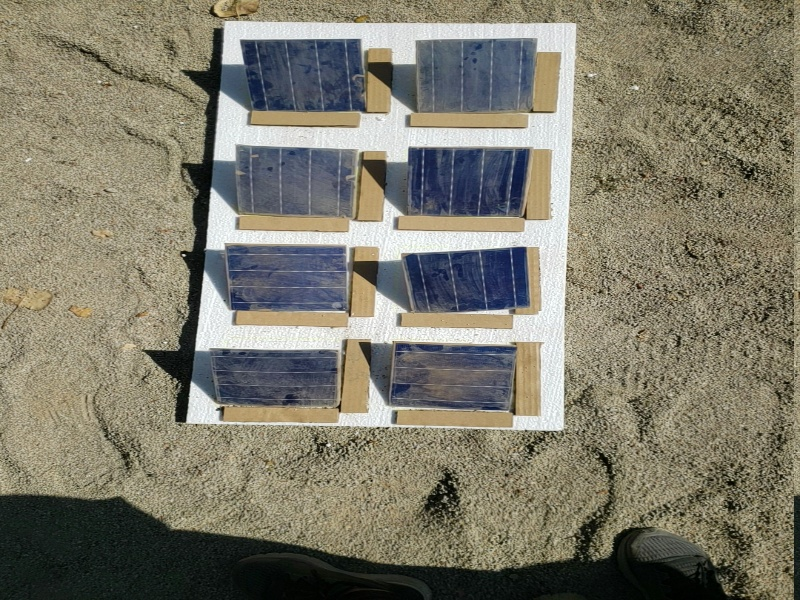clean: (401, 143, 537, 219), (402, 245, 526, 312)
dirty: (408, 40, 541, 118), (237, 40, 365, 116), (219, 244, 353, 313), (233, 145, 355, 218), (387, 345, 521, 410), (210, 349, 348, 409)
